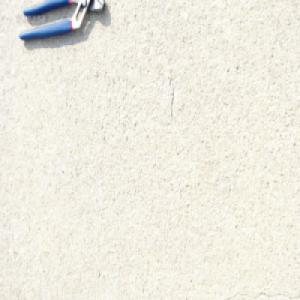Pliers: (18, 0, 105, 42)
